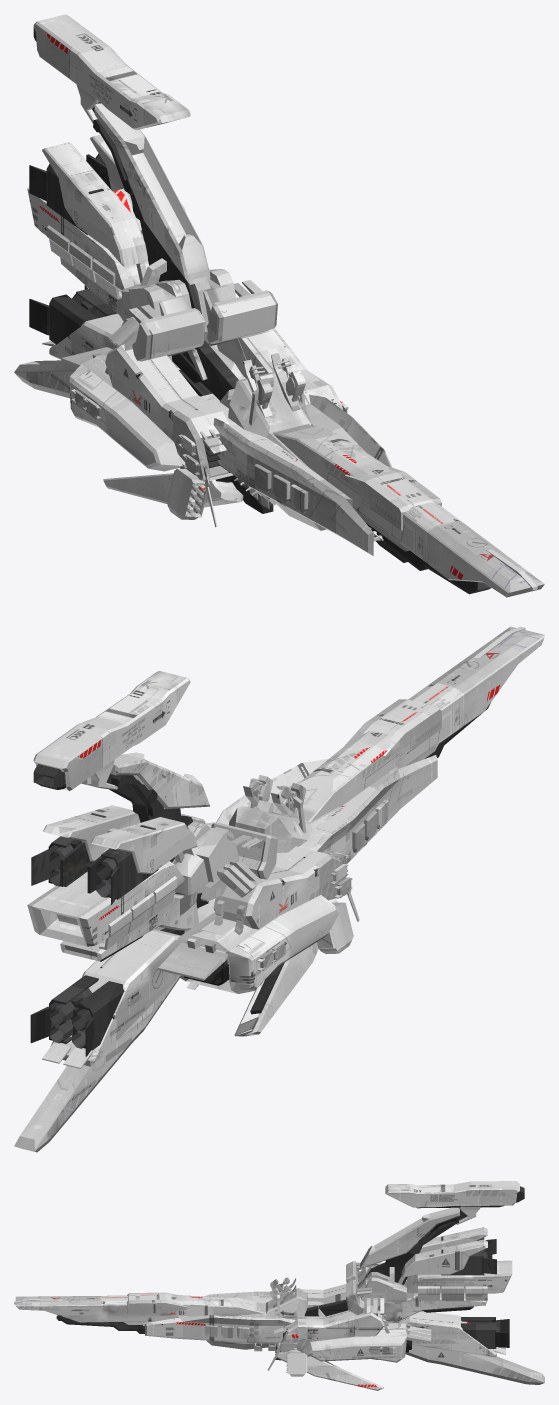
The model's file is mega_weapon_parts.FBX.
3 views of the same model, one above another, from view 1: azimuth 30°, elevation 25°; view 2: azimuth 150°, elevation 25°; view 3: azimuth 270°, elevation 25° (orthographic). The views are drawn at different scales.
Visible parts, largest first — view 1: red_parts03, red_parts02, red_parts01, parts_engine, parts_frame, part_frame, main_weapon; view 2: red_parts03, red_parts02, red_parts01, parts_frame, parts_engine, part_frame; view 3: red_parts03, red_parts02, red_parts01, parts_frame, parts_engine, part_frame, main_weapon.
Part boxes in pixels (x1,y1,x2,y2): red_parts03: (14, 14, 234, 408); red_parts02: (61, 328, 392, 555); red_parts01: (273, 424, 544, 597); parts_engine: (108, 258, 277, 380); parts_frame: (29, 27, 273, 513); part_frame: (71, 352, 383, 541); main_weapon: (366, 523, 491, 594); red_parts03: (14, 671, 215, 1152); red_parts02: (154, 755, 437, 1036); red_parts01: (274, 626, 544, 822); parts_frame: (30, 764, 284, 1056); parts_engine: (172, 813, 277, 915); part_frame: (187, 775, 388, 971); red_parts03: (318, 1181, 544, 1384); red_parts02: (145, 1284, 431, 1390); red_parts01: (14, 1292, 264, 1324); parts_frame: (275, 1186, 524, 1366); parts_engine: (346, 1261, 406, 1314); part_frame: (143, 1277, 410, 1376); main_weapon: (56, 1315, 144, 1333).
Size of the model in its own units: 273 by 518 by 1256.
